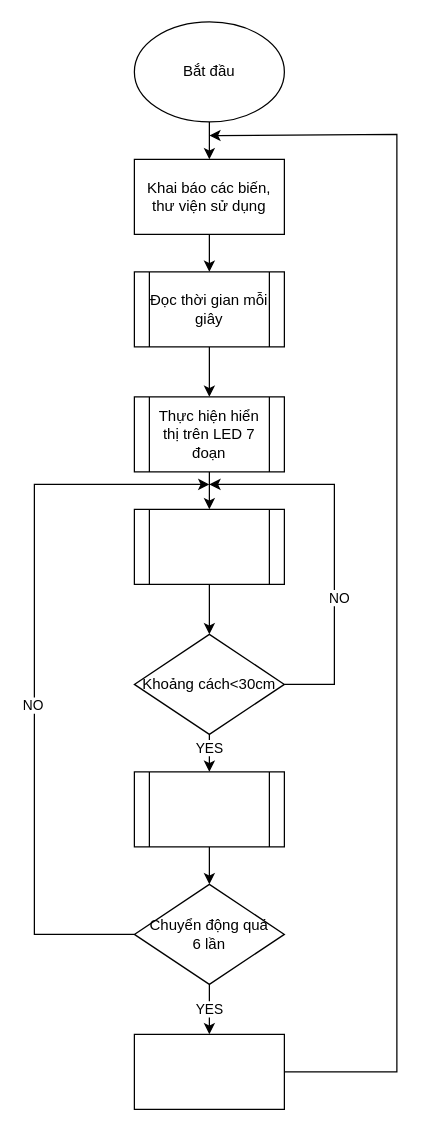
Image size: 429x1131. Some labels were removed from this diagram. The shapes that lost their labels are listed below. From the top down, each one's centre as x and y in pixels, then its label:
At (x=208, y=546): "Đọc khoảng cách từ cảm biến".
At (x=208, y=809): "Đọc chuyển động".
At (x=208, y=1071): "Thực hiện cảnh báo".
